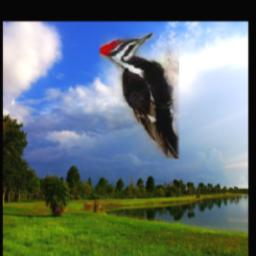Woodpecker: (99, 34, 178, 160)
